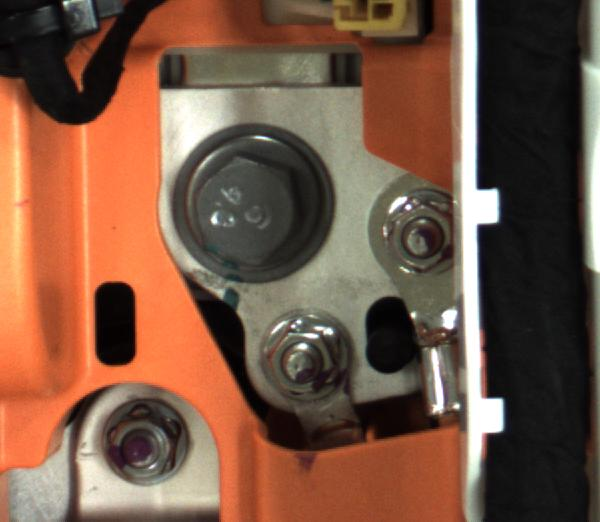nut_b: (167, 122, 348, 285)
screw_s: (90, 389, 199, 492), (254, 310, 348, 411), (374, 187, 455, 272)
